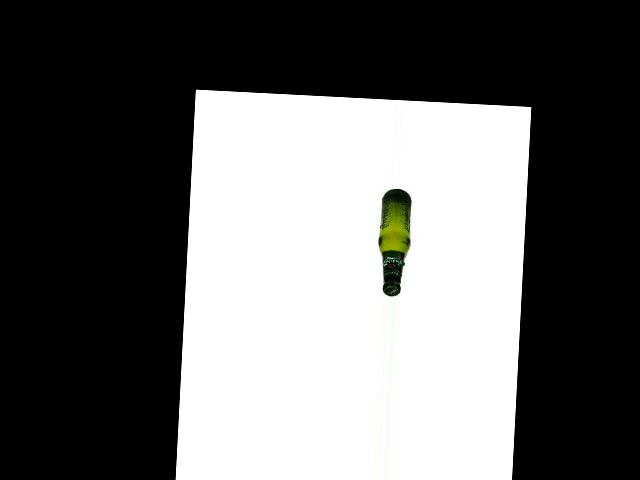beer: (376, 187, 413, 297)
